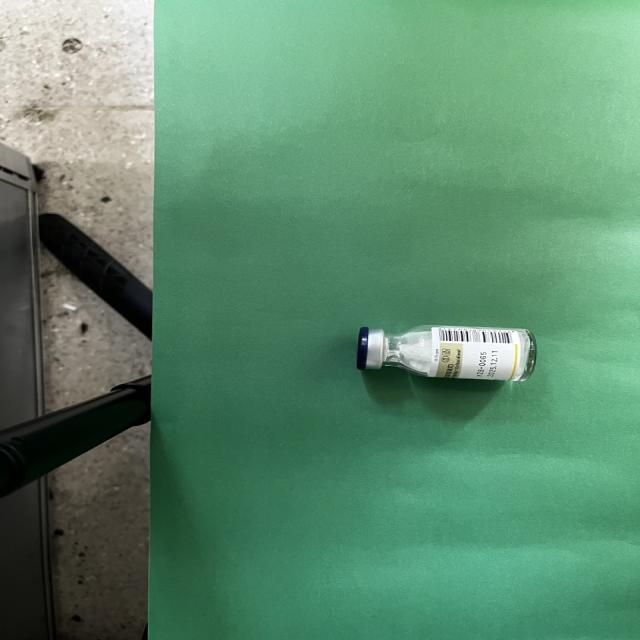Vials: (357, 326, 536, 380)
